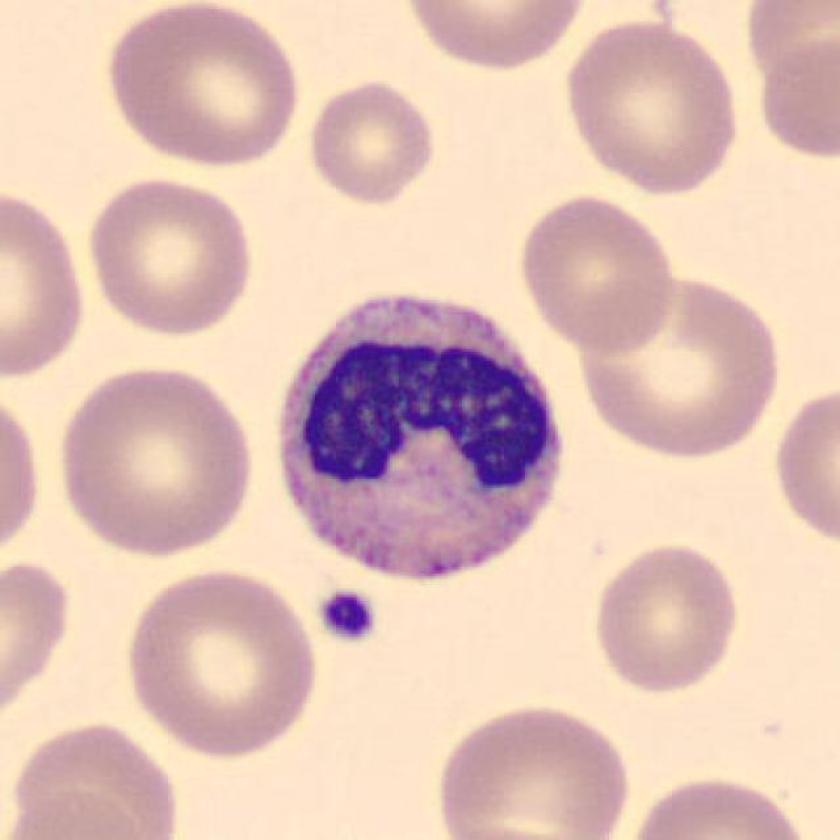neutrophil: (278, 293, 559, 578)
